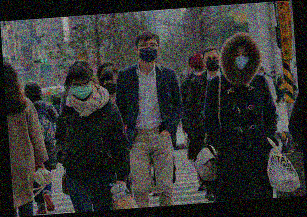with_mask: (137, 41, 159, 64), (70, 79, 92, 101), (233, 49, 251, 72), (204, 53, 221, 73), (102, 78, 118, 97), (191, 66, 207, 77), (271, 73, 276, 77)
